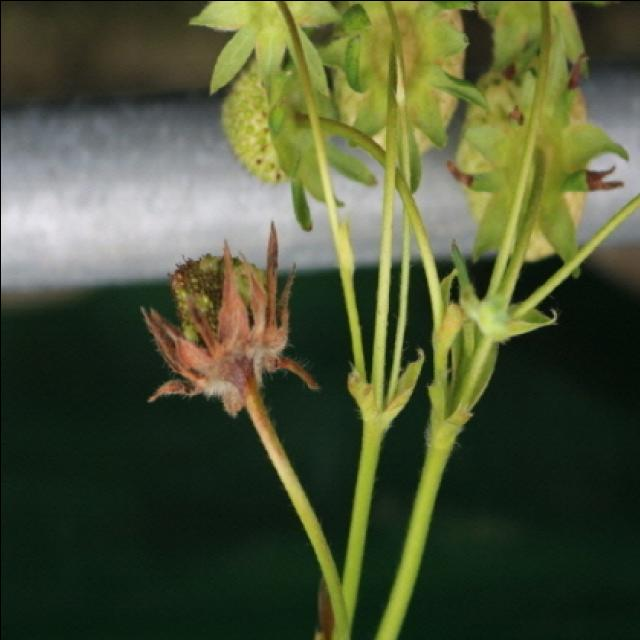Gray Mold: (137, 219, 298, 435)
